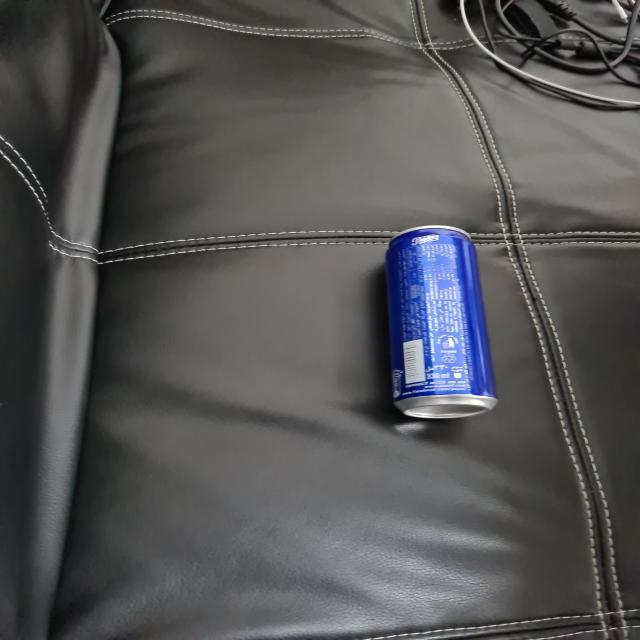can: (379, 222, 506, 426)
